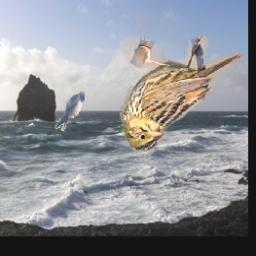Sparrow: (121, 37, 244, 153)
Swallow: (55, 92, 86, 131)
